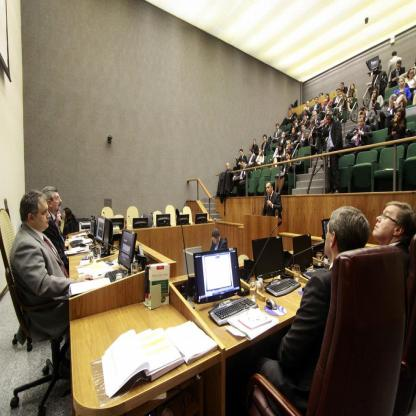board: (191, 246, 238, 310)
